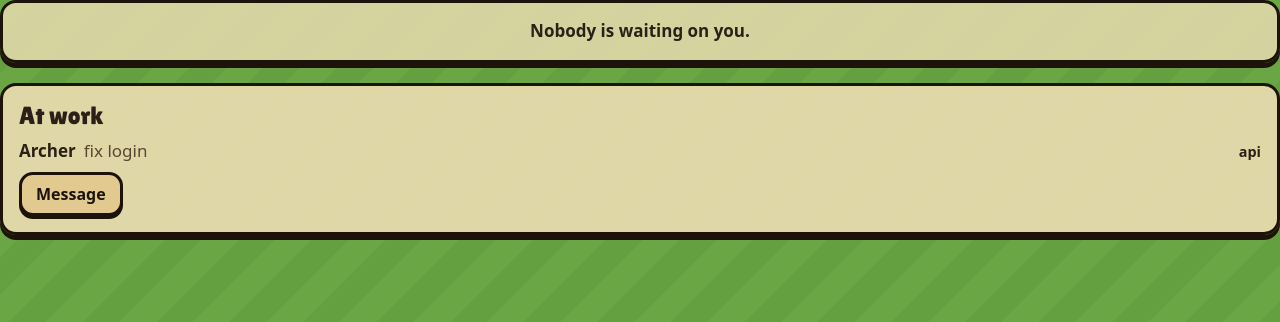
a builder at work takes a message signed for its stretch of work, then shows the Mac’s word on it
This screenshot has width=1280, height=322.
Later steps or results of the test are not shown.
Click the button "Message": (71,194) top-left (19, 172), bottom-right (123, 216)
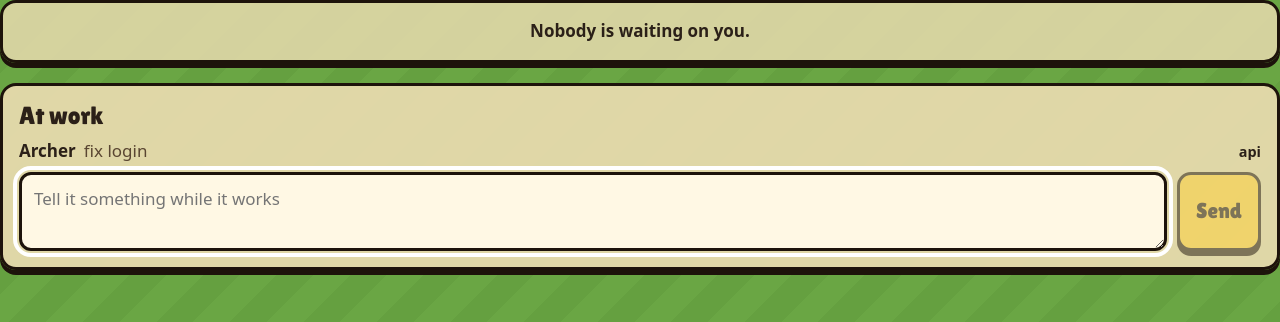
Expected: the button "Send" is disabled, top-left (1177, 172), bottom-right (1261, 251)
In the text box named "Message Archer": (593,211) top-left (19, 172), bottom-right (1167, 251), type "use the v2 endpoint"
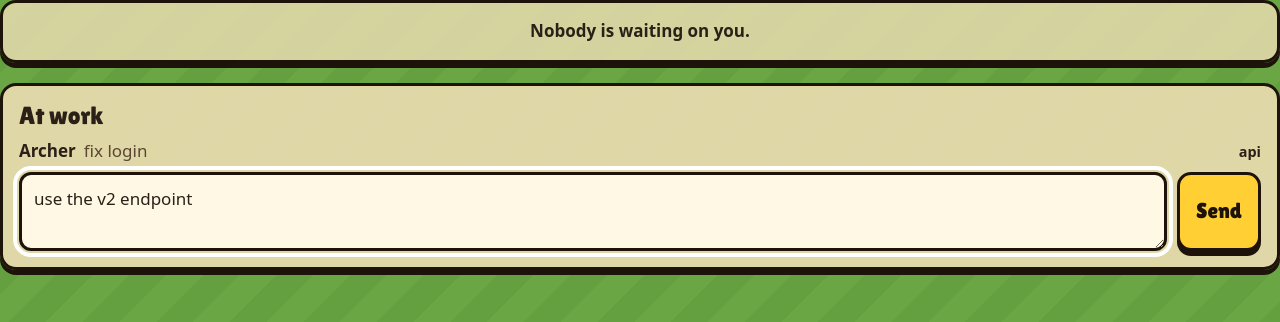
Click the button "Send": (1219,211) top-left (1177, 172), bottom-right (1261, 251)
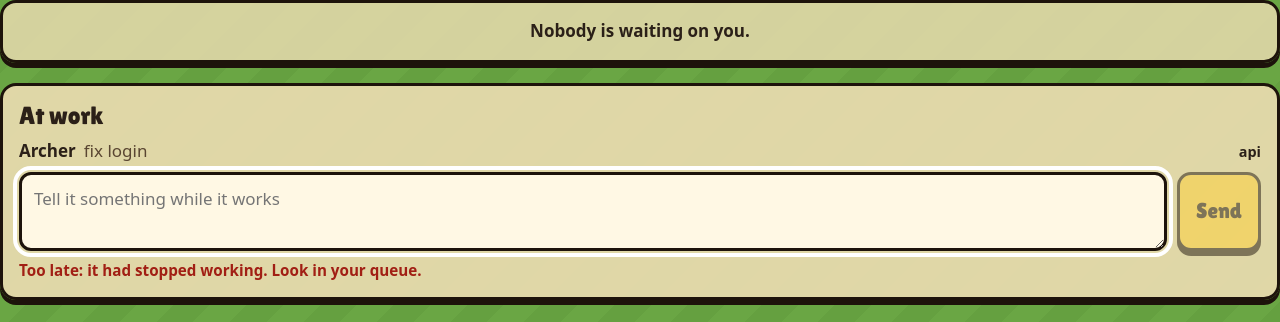
Expected: the text box named "Message Archer" is empty, top-left (19, 172), bottom-right (1167, 251)
Expected: the message shows "Too late", top-left (19, 260), bottom-right (422, 280)
